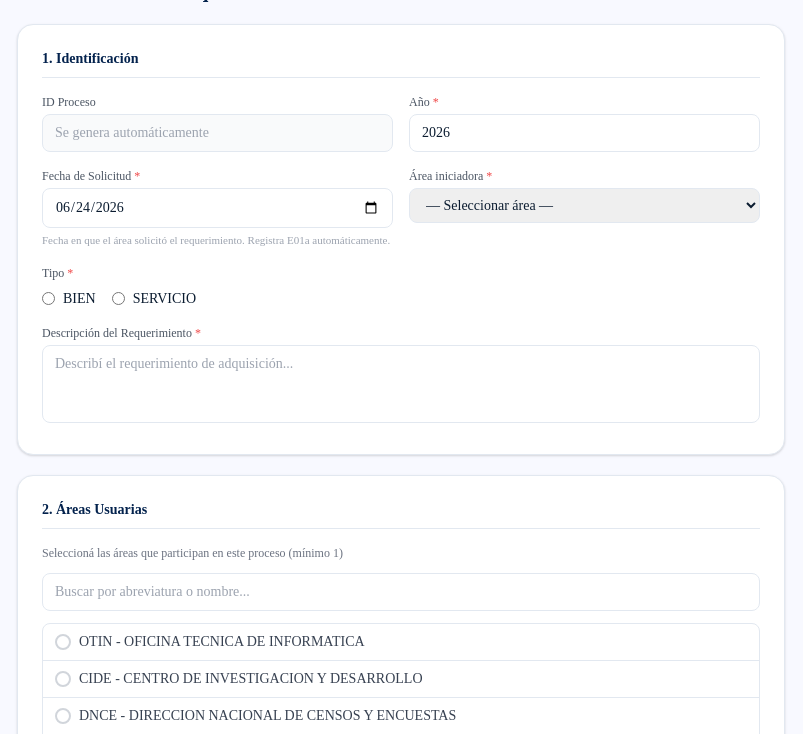
Test: S3 — AreaSelector toggle agrega y quita abrev › seleccionar dos areas genera dos chips
The image size is (803, 734).
Click the button with aria-label "Area OTIN". click: [222, 641]
box: [43,624,759,660]
(page scrolled)
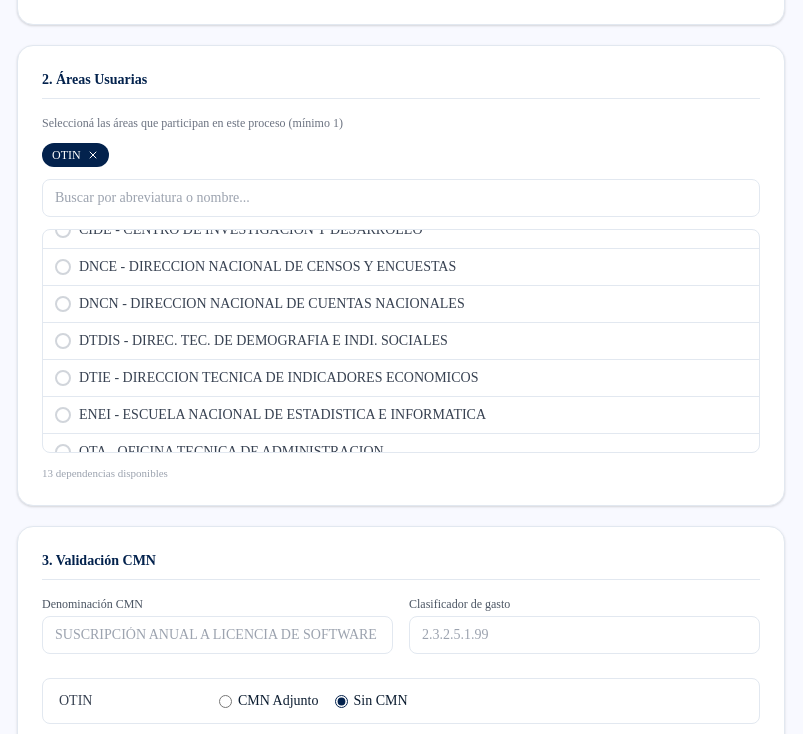
Click the button with aria-label "Area DTDIS". click: [401, 340]
box: [43,322,759,358]
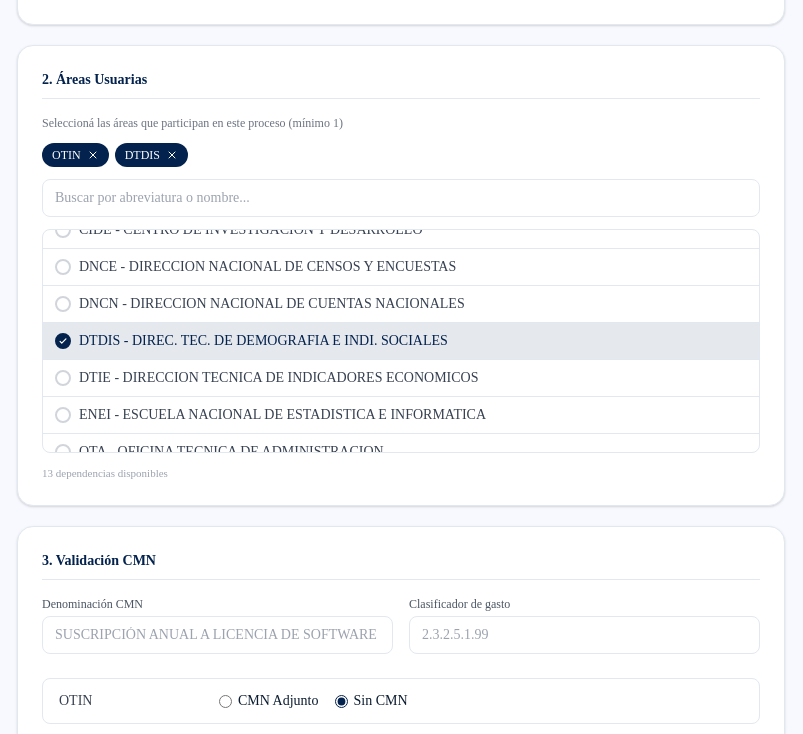
Expected: the number of list items is 2, [42,142,109,166]; [115,142,188,166]
